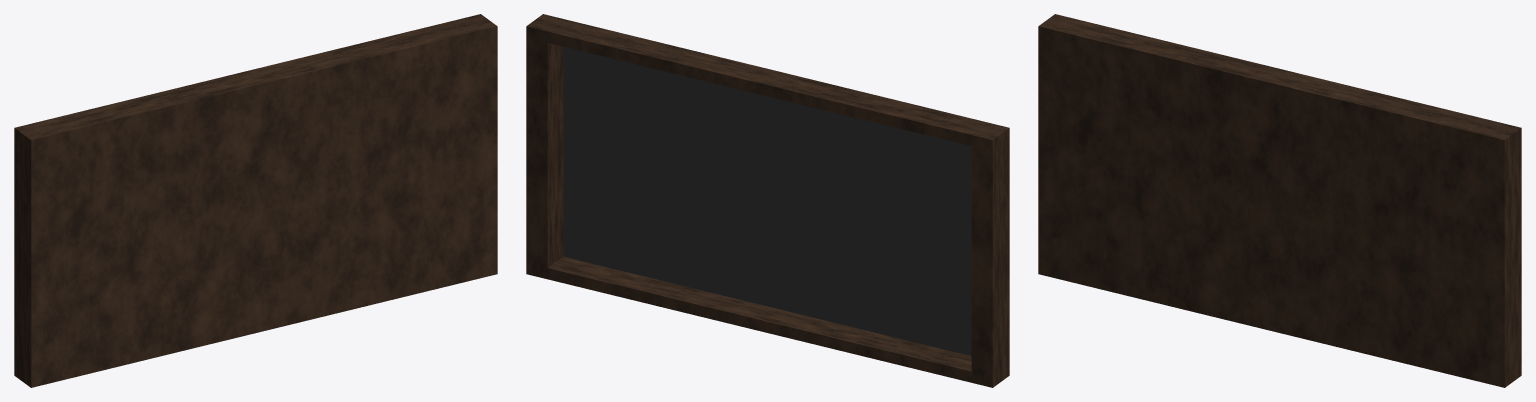
The model's file is mirror.fbx.
The picture shows the model from 3 angles, left to right: view 1: azimuth 30°, elevation 25°; view 2: azimuth 150°, elevation 25°; view 3: azimuth 330°, elevation 25°; orthographic projection.
Visible parts, largest first — view 1: mirror_Baked; view 2: mirror_Baked; view 3: mirror_Baked.
Part boxes in pixels (left/top/right/bottom): mirror_Baked: left=14, top=14, right=497, bottom=387; mirror_Baked: left=526, top=14, right=1009, bottom=387; mirror_Baked: left=1038, top=14, right=1521, bottom=387.
Size of the model in its own units: 130 by 66 by 8.13.
Materials: 1 (1 with a texture image).
